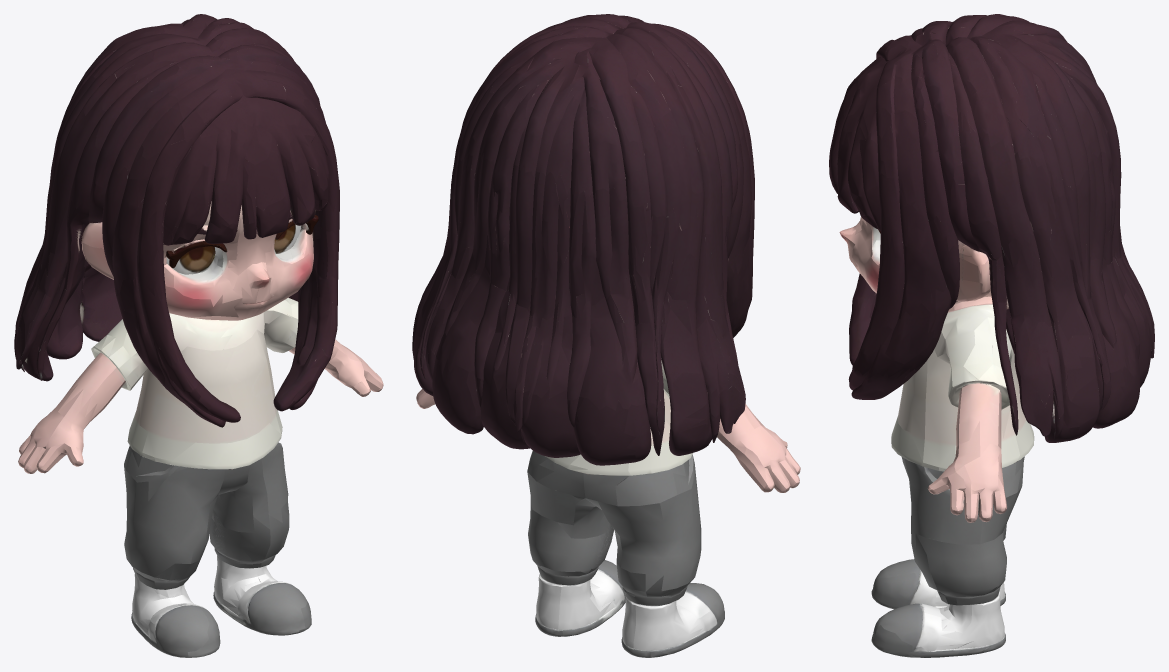
The model's file is img3d_01a11e76-9f8e-7016-9e28-5d3c10b8d1a5.glb.
3 views of the same model, side by side, from view 1: azimuth 30°, elevation 25°; view 2: azimuth 150°, elevation 25°; view 3: azimuth 270°, elevation 25° (orthographic). The views are drawn at different scales.
Bounding box in the file's own units: 1.23 × 1.9 × 0.9461.
Materials: 1 (1 with a texture image).
